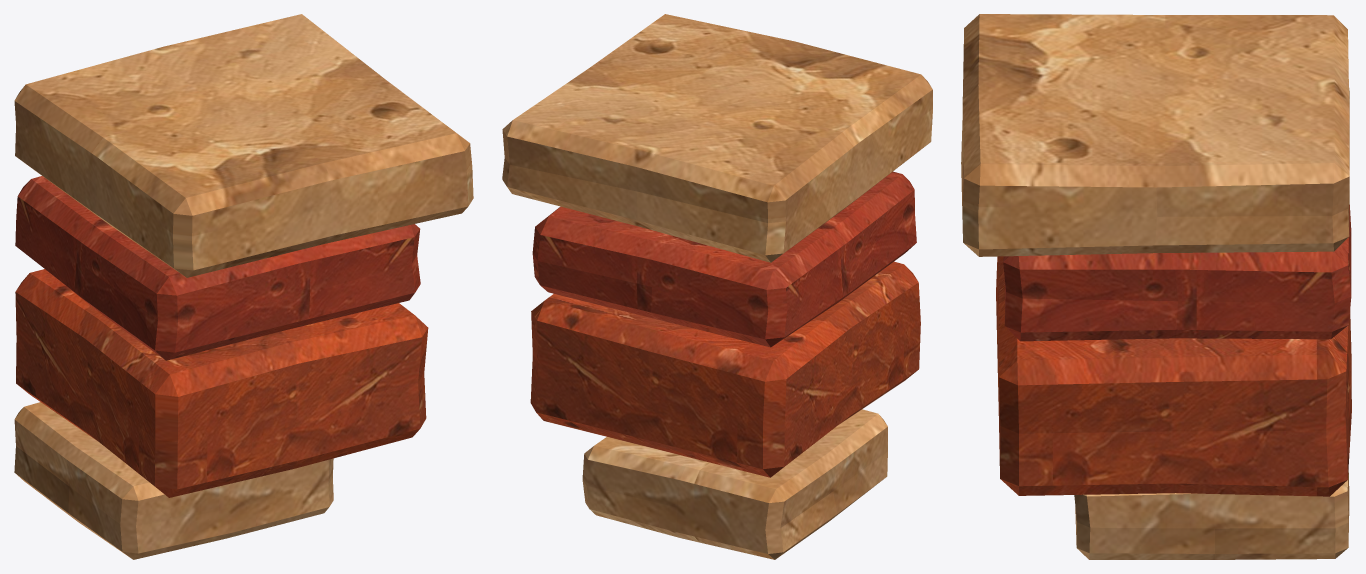
Rendered from cornice_corner__clay_brick.glb.
3 views of the same model, side by side, from view 1: azimuth 30°, elevation 25°; view 2: azimuth 150°, elevation 25°; view 3: azimuth 270°, elevation 25° (orthographic). The views are drawn at different scales.
Visible parts, largest first — view 1: model; view 2: model; view 3: model.
Part boxes in pixels (left/top/right/bottom): model: left=14, top=14, right=473, bottom=559; model: left=502, top=14, right=932, bottom=559; model: left=961, top=14, right=1351, bottom=559.
Size of the model in its own units: 0.3026 by 0.3821 by 0.302.
Materials: 3 (3 with a texture image).
